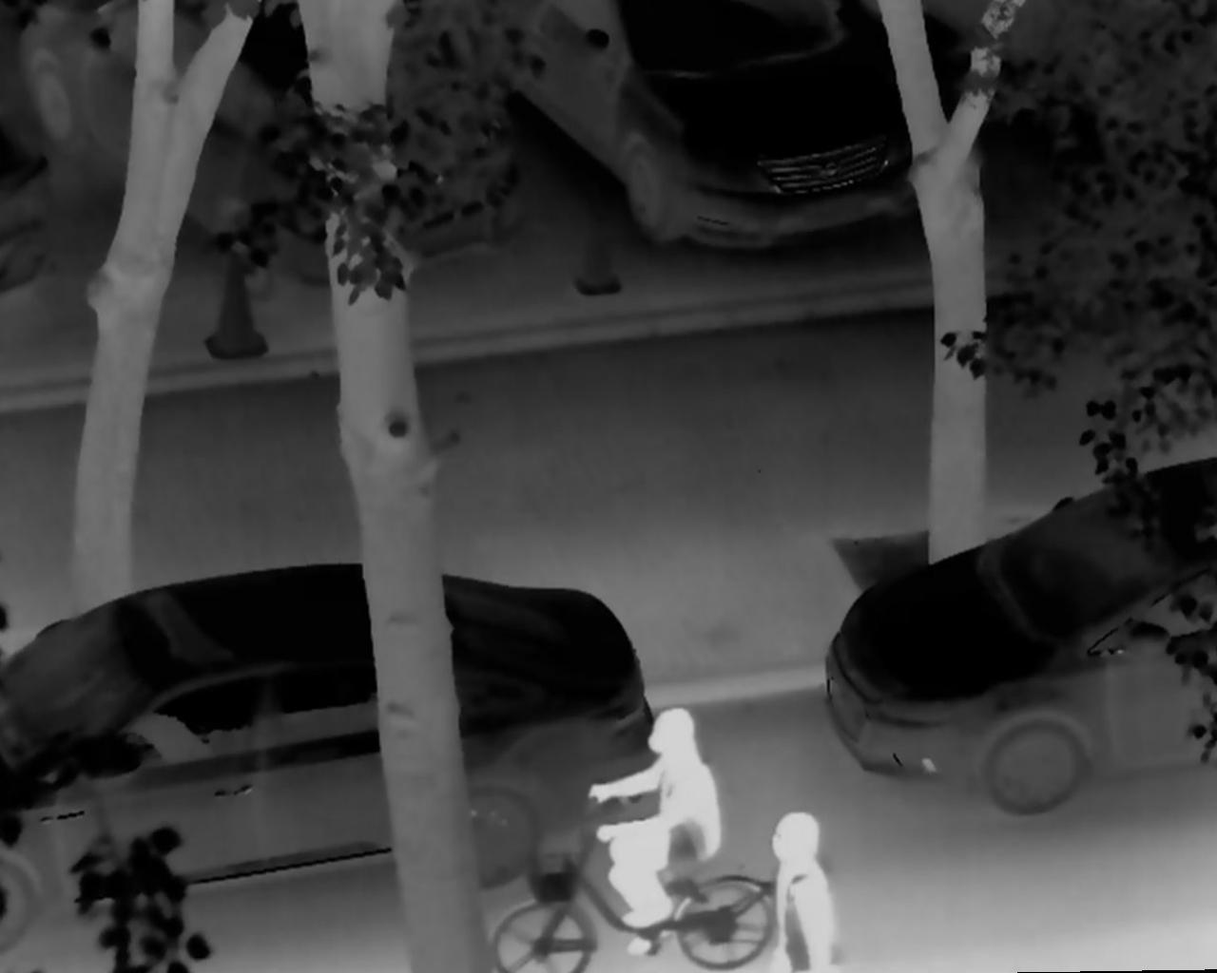person: (582, 703, 723, 961), (748, 809, 850, 973)
